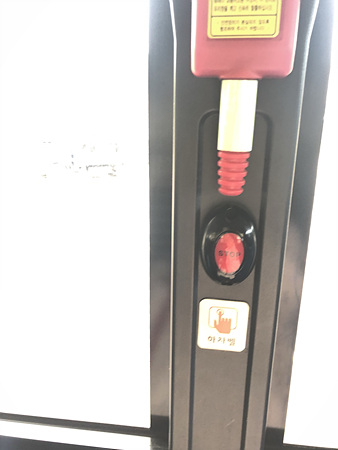bell: (199, 202, 260, 285)
